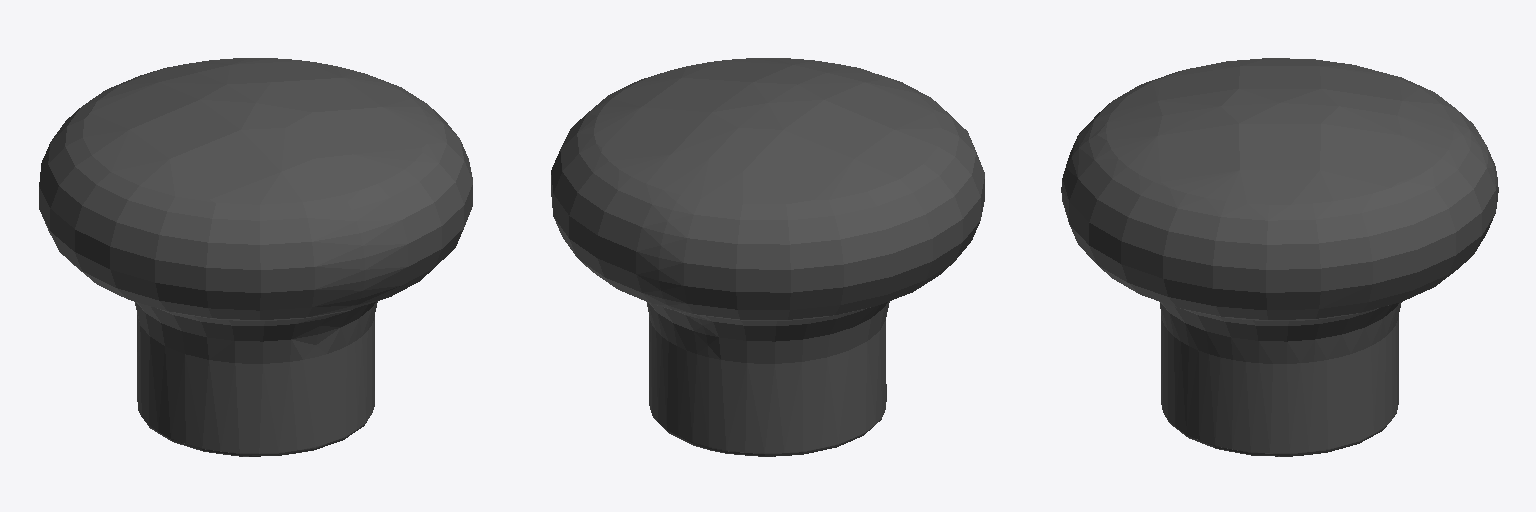
The model's file is ganter_gn_77-35-m8.obj.
3 renders of one model, left to right at view 1: azimuth 30°, elevation 25°; view 2: azimuth 150°, elevation 25°; view 3: azimuth 270°, elevation 25°, orthographic.
Visible parts, largest first — view 1: ganter_gn_77-35-m8_1; view 2: ganter_gn_77-35-m8_1; view 3: ganter_gn_77-35-m8_1.
Part boxes in pixels (x1,y1,x2,y2): ganter_gn_77-35-m8_1: (39, 58, 472, 456); ganter_gn_77-35-m8_1: (551, 58, 984, 456); ganter_gn_77-35-m8_1: (1061, 58, 1498, 456).
Size of the model in its own units: 34.74 by 27 by 35.